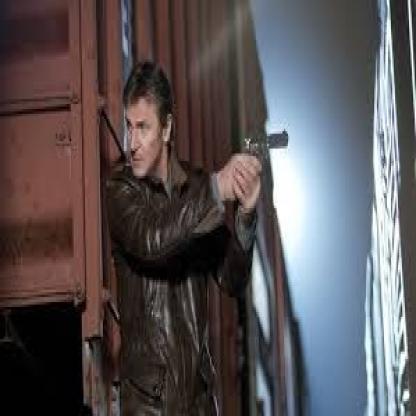Pistol: (241, 126, 288, 160)
